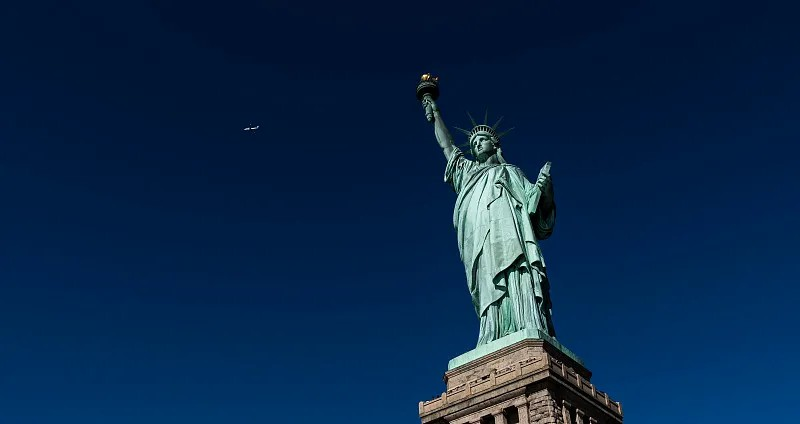SL: (415, 71, 625, 423)
